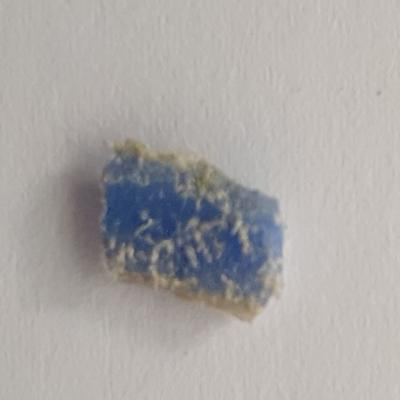plastic: (88, 127, 304, 338)
